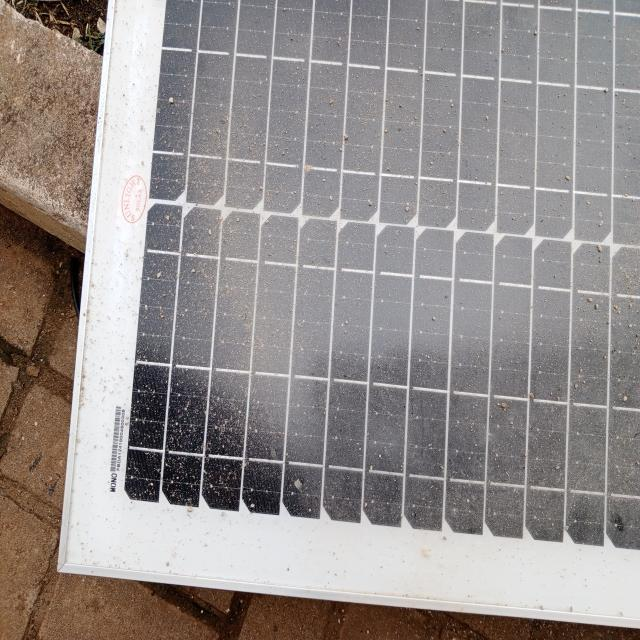Anomaly Solar Panel: (106, 3, 636, 563)
Surface Contaminant: (141, 3, 639, 544)
